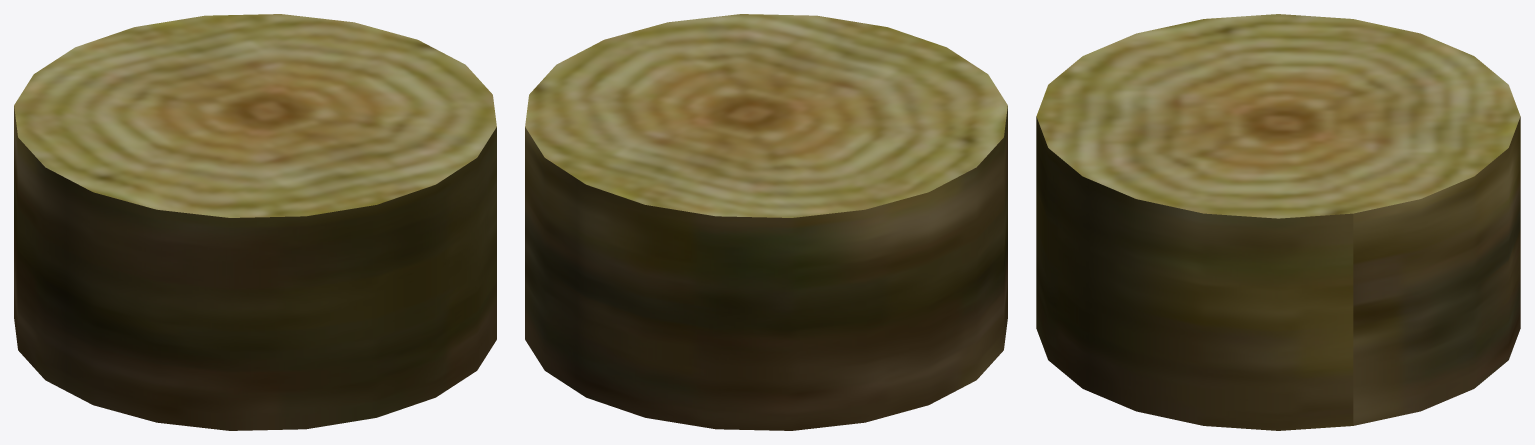
File: mesa.obj
The picture shows the model from 3 angles, left to right: view 1: azimuth 30°, elevation 25°; view 2: azimuth 150°, elevation 25°; view 3: azimuth 270°, elevation 25°; orthographic projection.
Parts seen in each view (by area): view 1: pCylinder1; view 2: pCylinder1; view 3: pCylinder1.
Boxes of the visible parts, x1=… form: pCylinder1: x1=14, y1=14, x2=496, y2=430; pCylinder1: x1=525, y1=14, x2=1007, y2=430; pCylinder1: x1=1036, y1=14, x2=1520, y2=430.
Size of the model in its own units: 1.18 by 0.57 by 1.18.
Materials: 3 (3 with a texture image).
